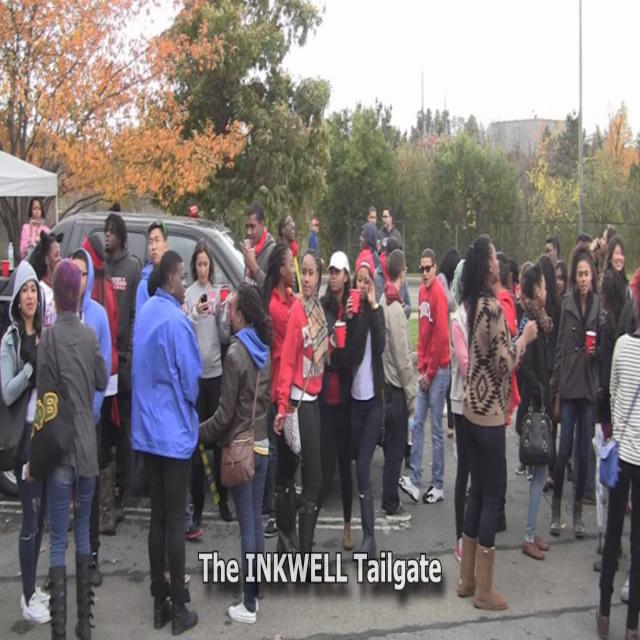body: (24, 257, 110, 639), (455, 230, 539, 616), (194, 278, 275, 628), (270, 242, 349, 588), (132, 245, 200, 638), (51, 247, 112, 588), (0, 258, 55, 626), (549, 247, 608, 540), (306, 245, 356, 554), (393, 245, 451, 507), (181, 235, 233, 522), (341, 246, 387, 564), (101, 210, 142, 524), (514, 257, 555, 564), (80, 233, 120, 535), (592, 267, 629, 575), (378, 248, 417, 523), (593, 267, 626, 575), (610, 292, 640, 606), (490, 250, 522, 536), (147, 262, 172, 603), (449, 258, 471, 564), (262, 240, 300, 415), (537, 254, 563, 490), (434, 246, 464, 440), (515, 259, 537, 481), (544, 424, 602, 506), (238, 202, 278, 300), (134, 217, 170, 318), (30, 228, 64, 334), (373, 235, 414, 321), (276, 212, 304, 298), (18, 196, 51, 262), (588, 223, 618, 295), (600, 234, 630, 292), (375, 204, 403, 254), (308, 216, 324, 293), (358, 222, 380, 270), (552, 257, 569, 299), (544, 236, 560, 266), (498, 258, 508, 286), (366, 204, 378, 225), (110, 199, 124, 215)
